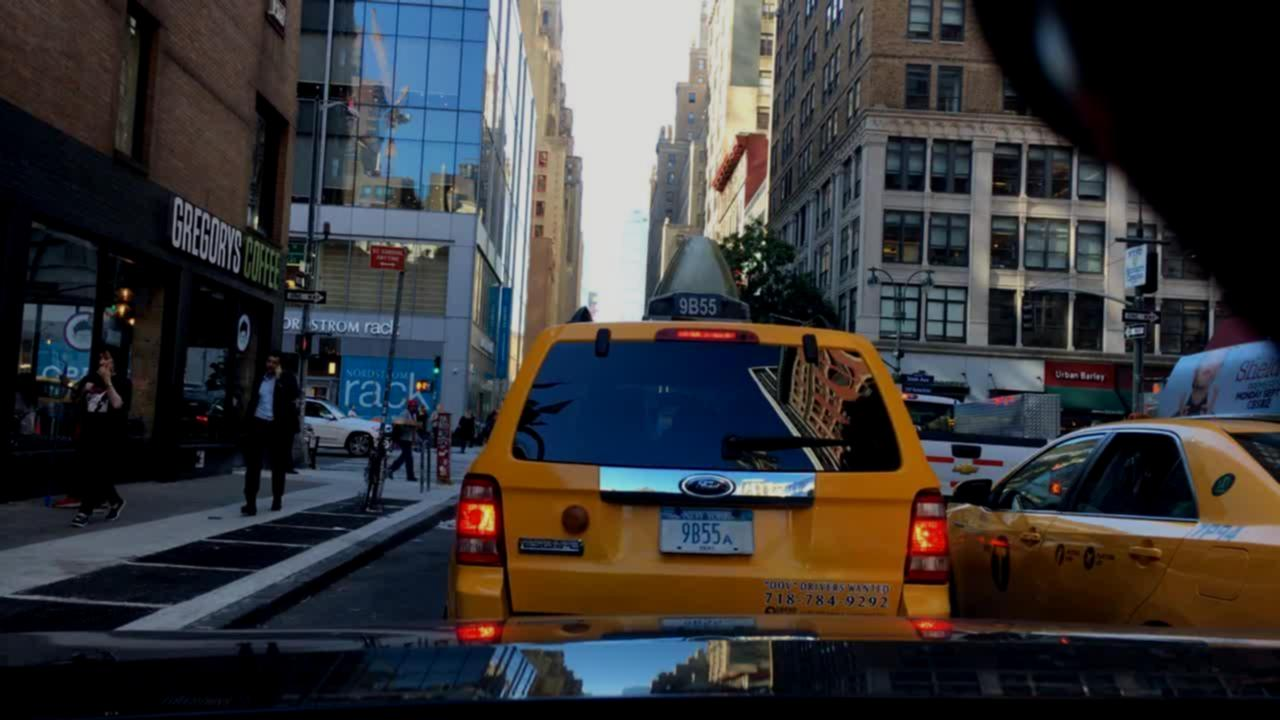ford: (670, 472, 742, 501)
